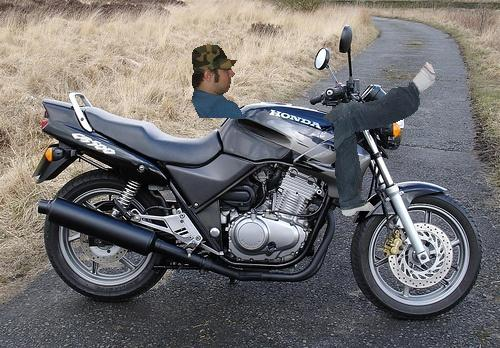tampered: (192, 45, 435, 216)
